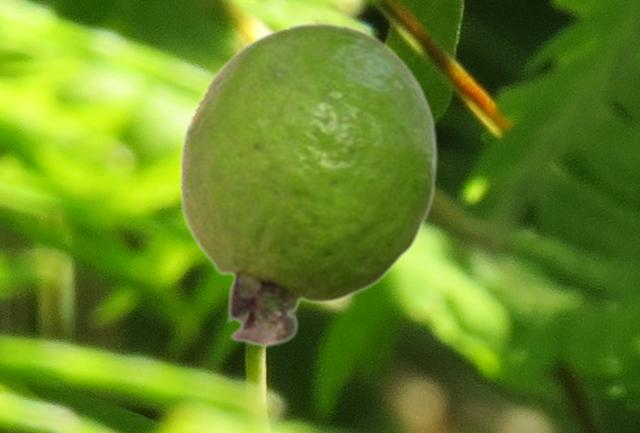guava: (178, 20, 438, 347)
